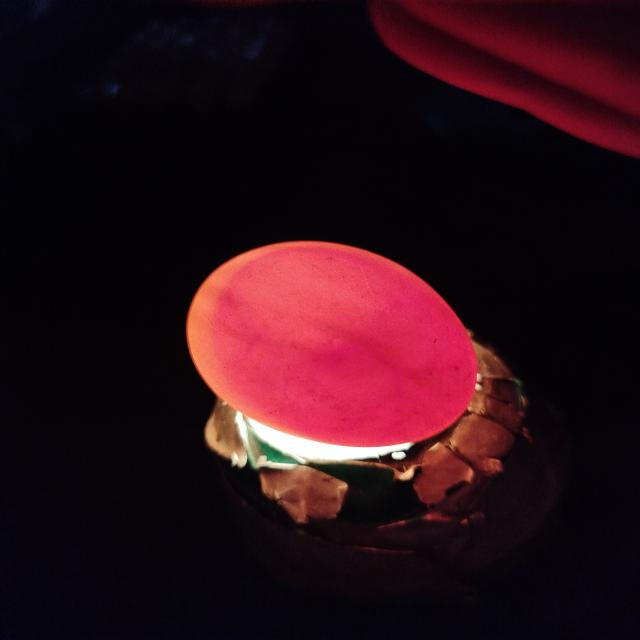Gema Quebrada: (212, 246, 474, 447)
